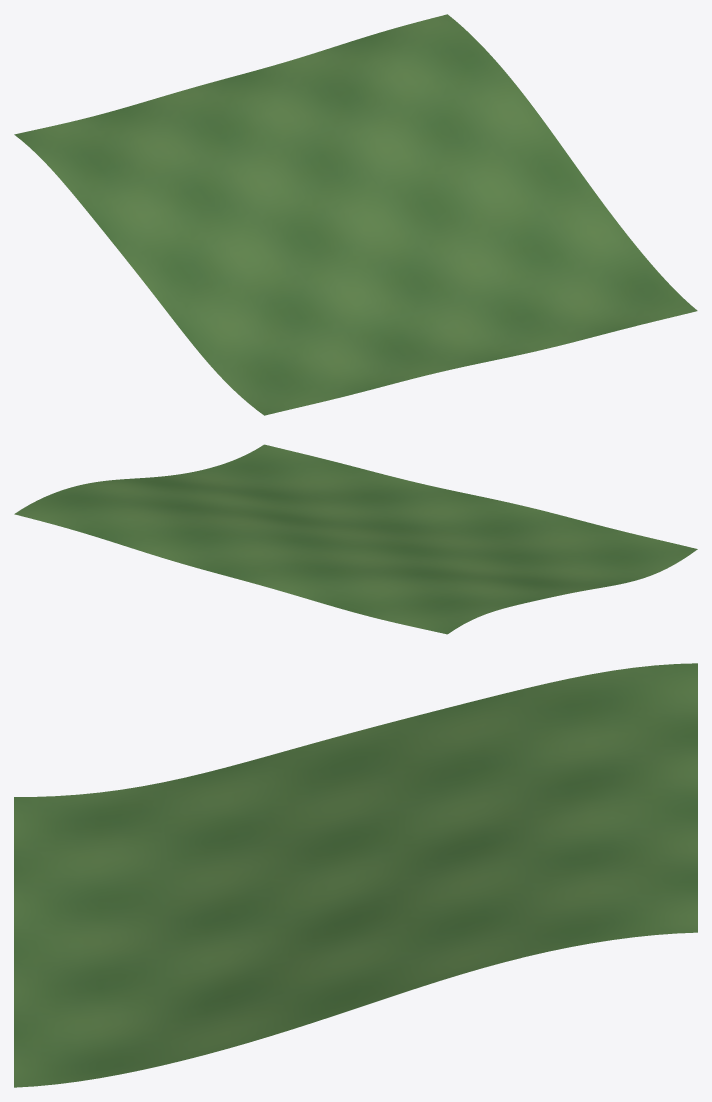
Rendered from chunk_8_0.glb.
The picture shows the model from 3 angles, top to bottom: view 1: azimuth 30°, elevation 25°; view 2: azimuth 150°, elevation 25°; view 3: azimuth 270°, elevation 25°; orthographic projection. The views are drawn at different scales.
Bounding box in the file's own units: 512 × 129 × 512.
